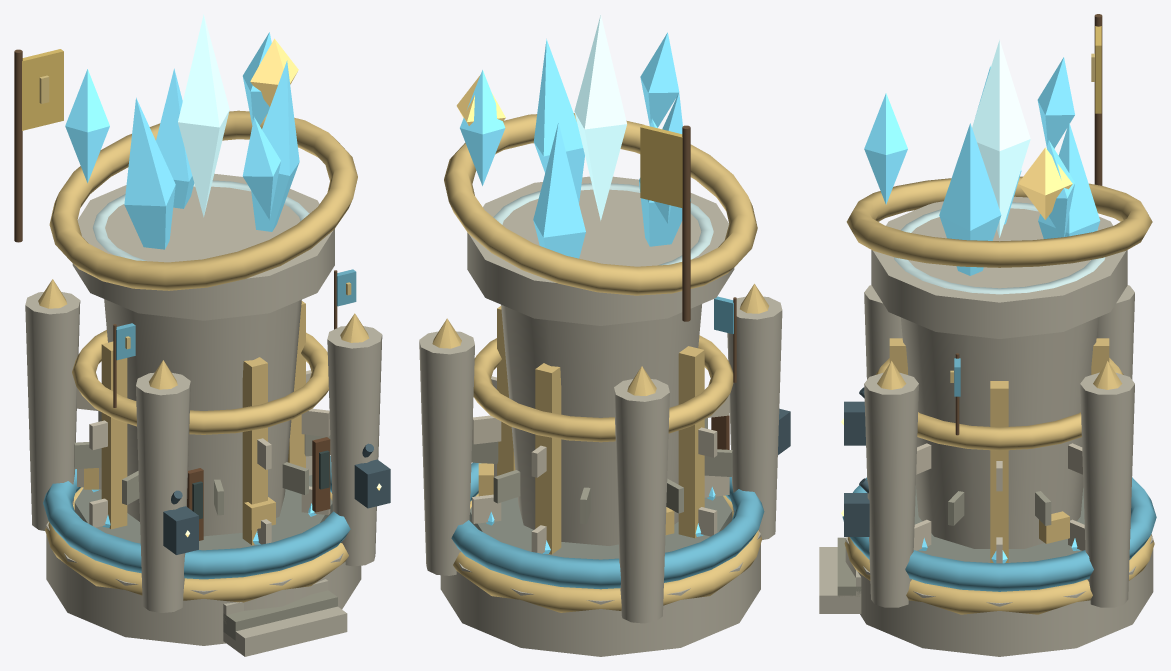
The model's file is tower-frost-3-1.glb.
3 views of the same model, side by side, from view 1: azimuth 30°, elevation 25°; view 2: azimuth 150°, elevation 25°; view 3: azimuth 270°, elevation 25° (orthographic). The views are drawn at different scales.
Visible parts, largest first — view 1: Foundation, Turret, frost-L3-1; view 2: Foundation, Turret, frost-L3-1; view 3: Foundation, Turret, frost-L3-1.
Part boxes in pixels (x1=…): Foundation: x1=14, y1=49, x2=390, y2=656; Turret: x1=49, y1=14, x2=357, y2=320; frost-L3-1: x1=46, y1=475, x2=361, y2=645; Foundation: x1=419, y1=125, x2=790, y2=623; Turret: x1=444, y1=14, x2=757, y2=325; frost-L3-1: x1=440, y1=495, x2=760, y2=656; Foundation: x1=819, y1=14, x2=1156, y2=614; Turret: x1=846, y1=40, x2=1152, y2=338; frost-L3-1: x1=845, y1=486, x2=1153, y2=656.
Bounding box in the file's own units: 1.72 × 3.33 × 1.84.
